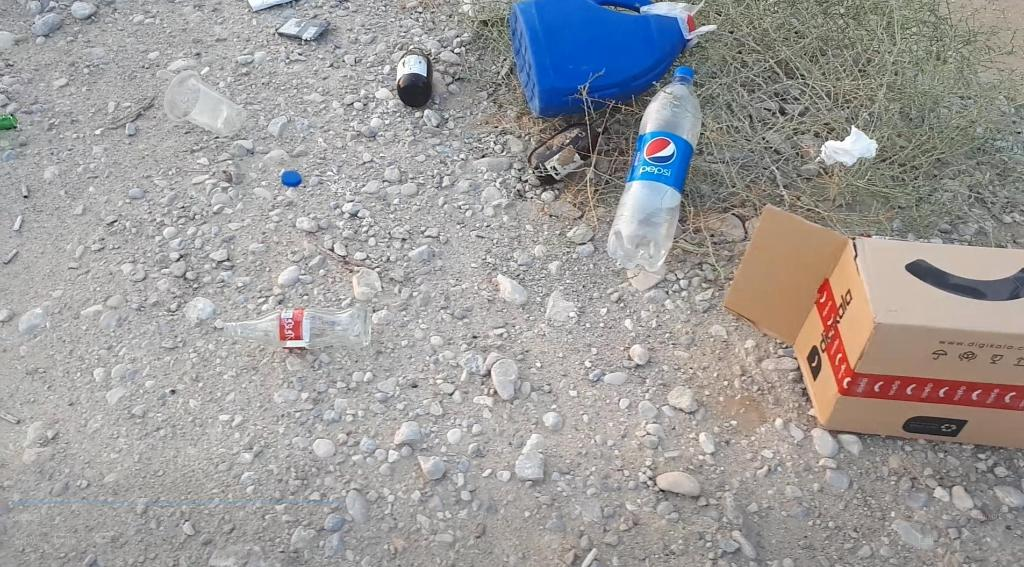garbage: (726, 172, 1024, 452), (495, 0, 716, 126), (509, 0, 697, 117), (606, 66, 701, 272), (200, 293, 383, 364), (223, 306, 371, 348), (528, 118, 607, 186), (395, 31, 439, 116), (396, 44, 433, 107)
